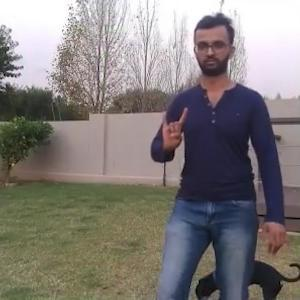takeoff-hand: (154, 98, 195, 157)
